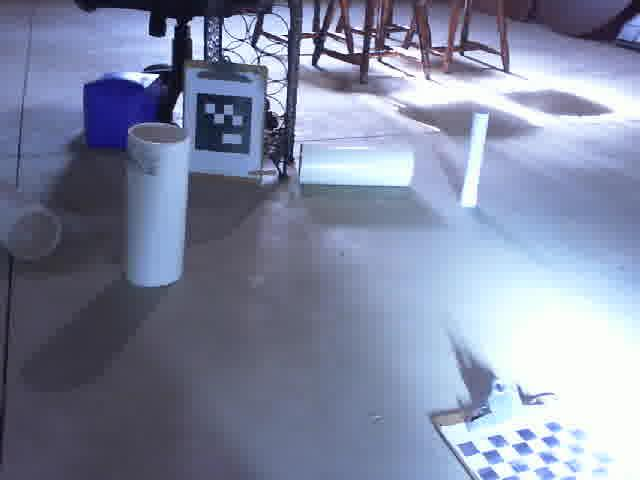coral: (126, 120, 187, 286), (297, 140, 417, 190), (0, 180, 66, 261)
